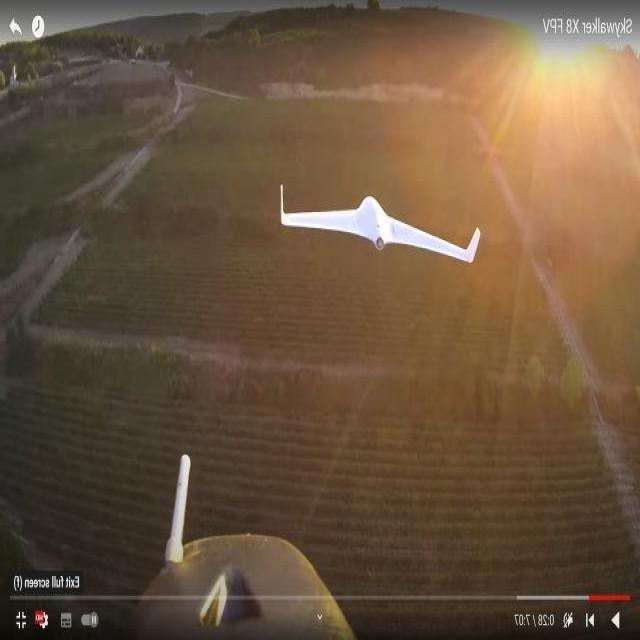Airplane: (272, 171, 489, 273)
